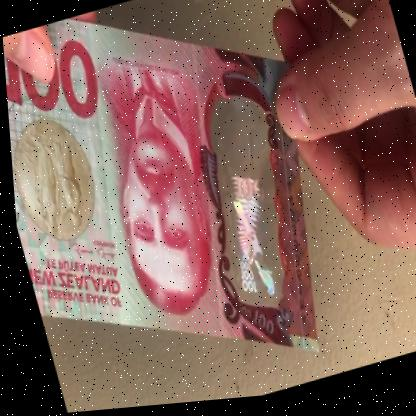100F: (190, 95, 298, 317)
